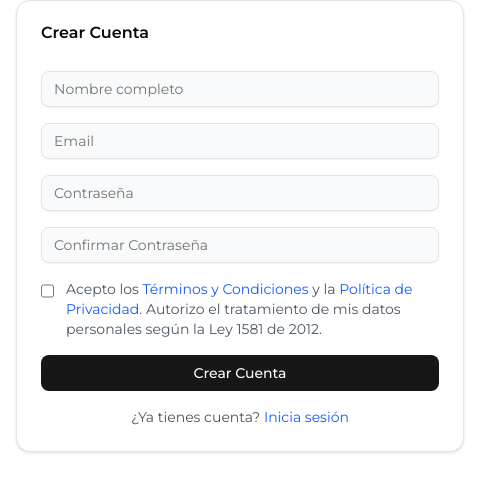
Test case: RegisterPage › should show validation error for password mismatch
# Fill out form with mismatched passwords
Type "Test User" into the field with placeholder "Nombre completo" at (240, 89), box [41,71,439,107]
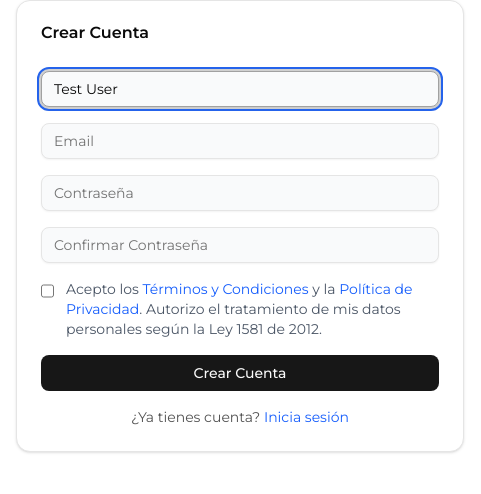
Type "test@example.com" into the field with placeholder "Email" at (240, 141), box [41,123,439,159]
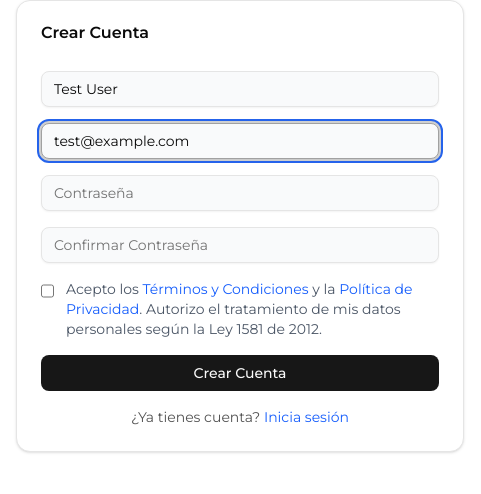
Type "password123" into the password field with placeholder "Contraseña" at (240, 193), box [41,175,439,211]
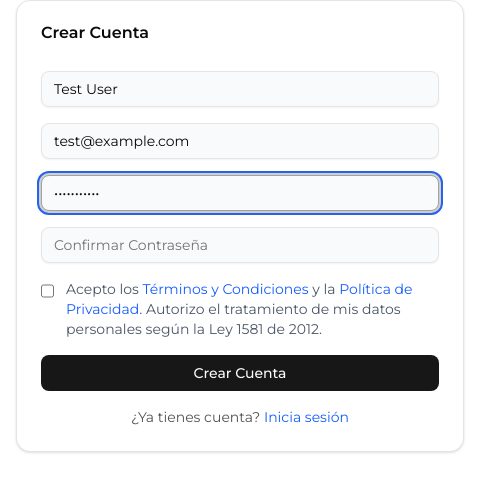
Type "different123" into the password field with placeholder "Confirmar Contraseña" at (240, 245), box [41,227,439,263]
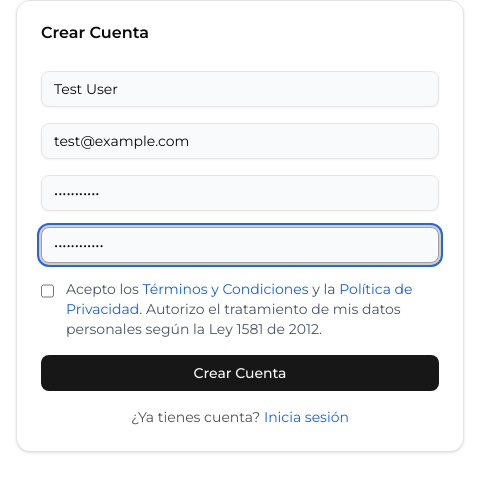
Click the checkbox labelled "Acepto los Términos" at (48, 291), box [41,283,54,299]
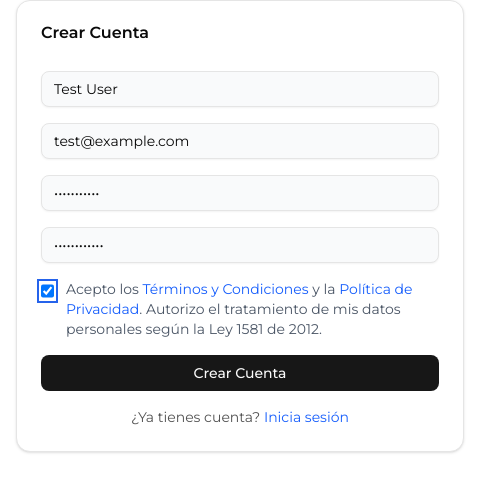
Click the button "Crear Cuenta" at (240, 373), box [41,355,439,391]
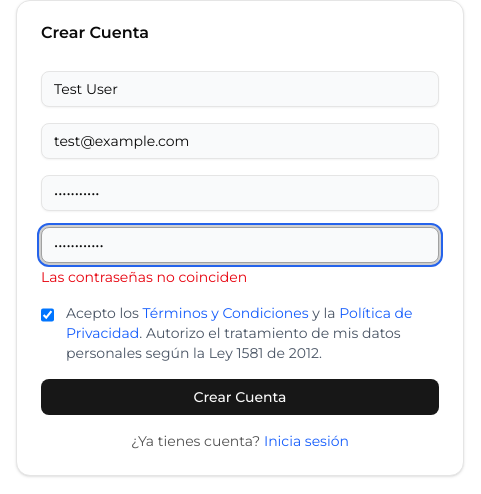
Now the text "Las contraseñas no coinciden" is shown, box [41,268,247,286]
